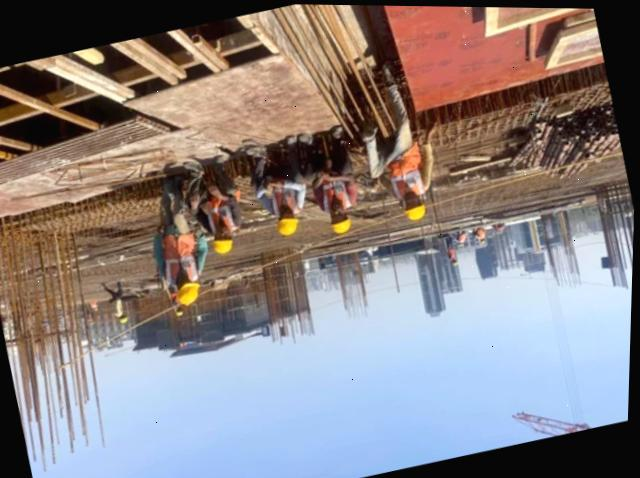helmet: (168, 273, 210, 310), (398, 197, 430, 225), (275, 211, 304, 239), (207, 232, 240, 256), (328, 215, 356, 240), (122, 314, 133, 324), (176, 310, 186, 316), (455, 259, 459, 266)
vest: (378, 137, 432, 197), (157, 214, 204, 281), (311, 164, 357, 215), (196, 185, 243, 233), (266, 168, 309, 213), (478, 223, 488, 237), (449, 246, 457, 258), (461, 231, 467, 241)
